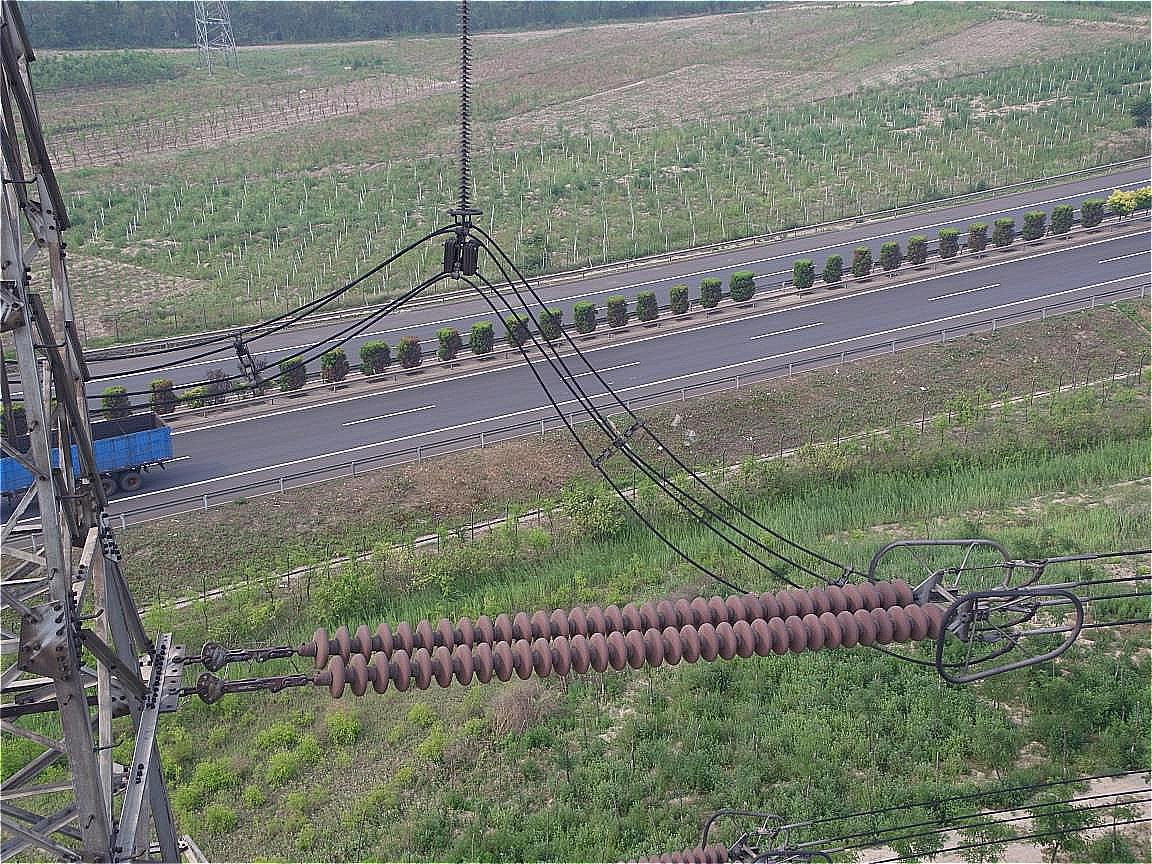insultor1: (290, 578, 956, 705)
